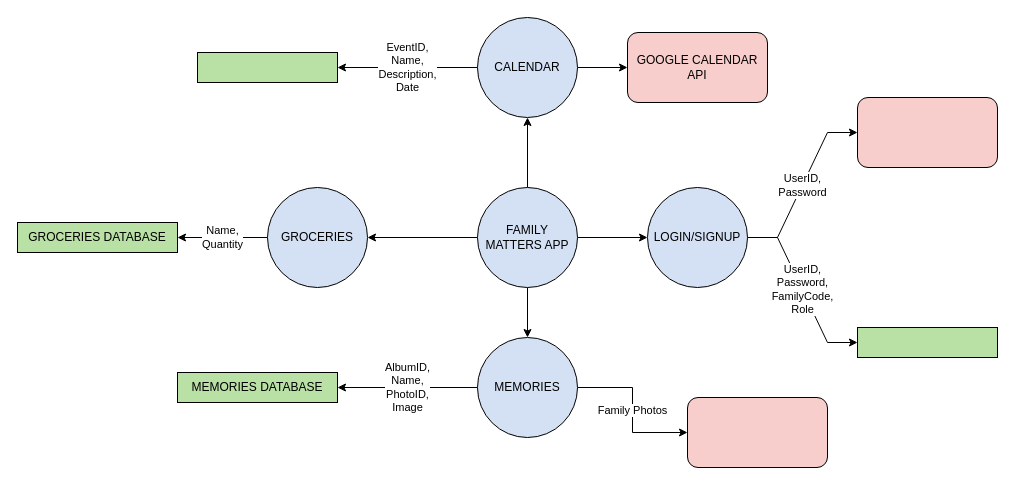
The diagram is 1015 pixels wide and 485 high, and some of its shapes have lost their labels. The shapes that lost their labels are listed below. From the top down, each one's centre as x and y in pixels, then its label:
At (267,67): "EVENTS DATABASE".
At (927,132): "USER AUTHENTICATION".
At (927,342): "USER DATABASE".
At (757,432): "AMAZON S3 IMAGE STORAGE".
